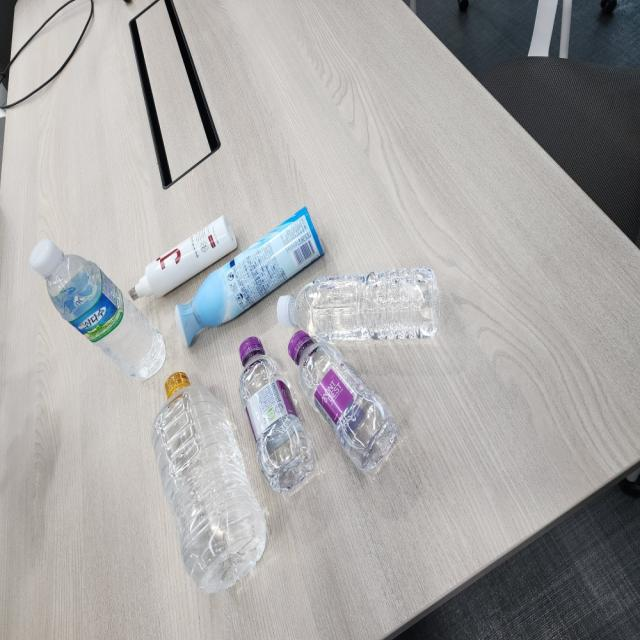spray: (173, 205, 321, 347), (129, 215, 237, 302)
water: (152, 370, 268, 589), (28, 238, 165, 383), (282, 327, 397, 475), (276, 264, 444, 339), (237, 334, 314, 493)
